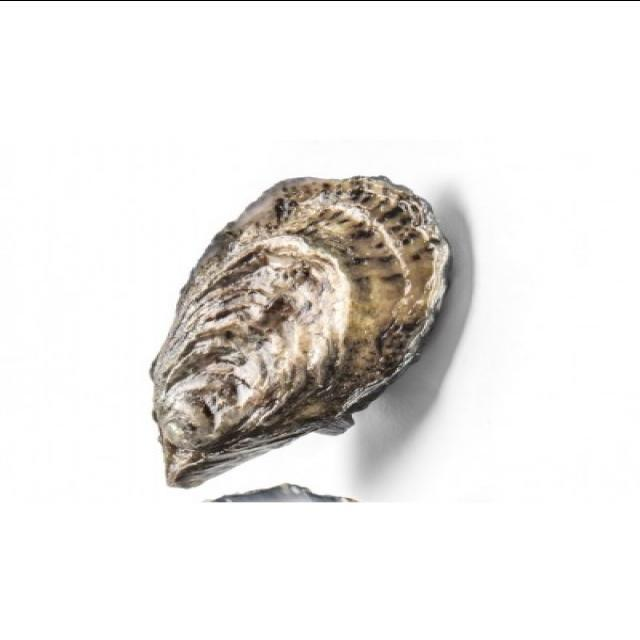Oyster- Indeterminate: (148, 176, 450, 490)
